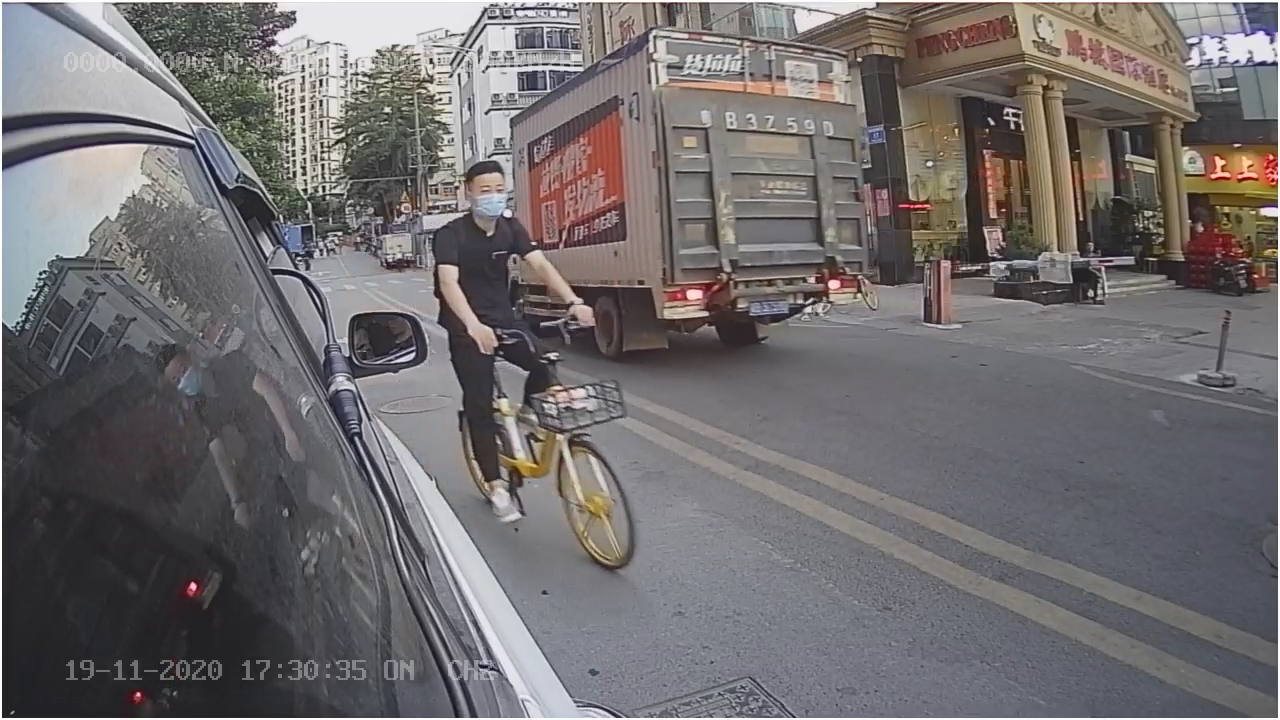person: (431, 164, 560, 358)
